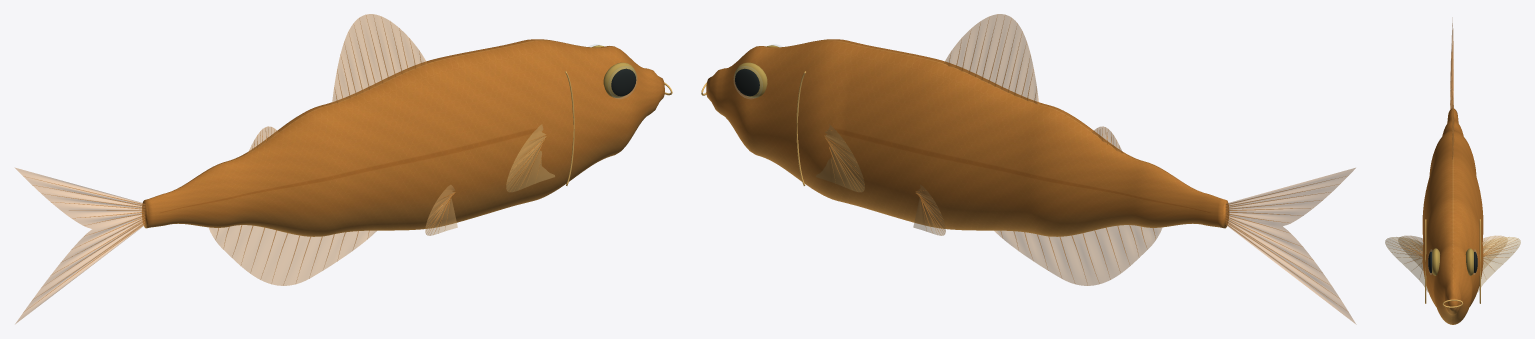
File: ember-desktop.glb
3 views of the same model, side by side, from view 1: azimuth 30°, elevation 25°; view 2: azimuth 150°, elevation 25°; view 3: azimuth 270°, elevation 25° (orthographic). The views are drawn at different scales.
Visible parts, largest first — view 1: skin, tail, anal, dorsal, dorsal-ray, pectoral-left, pelvic-left, eye-pupil--1; view 2: skin, tail, anal, dorsal, dorsal-ray, pectoral-left, pelvic-left, eye-pupil--1; view 3: skin, pectoral-left, pelvic-left, dorsal-ray, eye-iris--1, operculum, tail, eye-pupil--1, dorsal.
Part boxes in pixels (x1,y1,x2,y2): skin: [141, 39, 664, 236]; tail: [15, 168, 144, 323]; anal: [209, 225, 376, 285]; dorsal: [248, 14, 426, 153]; dorsal-ray: [23, 15, 546, 312]; pectoral-left: [506, 124, 554, 192]; pelvic-left: [425, 185, 457, 235]; eye-pupil--1: [611, 68, 636, 96]; skin: [706, 39, 1229, 236]; tail: [1226, 168, 1356, 324]; anal: [994, 225, 1162, 285]; dorsal: [944, 14, 1123, 153]; dorsal-ray: [824, 14, 1346, 310]; pectoral-left: [816, 124, 864, 192]; pelvic-left: [913, 184, 945, 235]; eye-pupil--1: [735, 68, 759, 96]; skin: [1422, 108, 1483, 324]; pectoral-left: [1385, 237, 1520, 291]; pelvic-left: [1398, 235, 1507, 269]; dorsal-ray: [1389, 35, 1517, 276]; eye-iris--1: [1432, 248, 1473, 275]; operculum: [1425, 219, 1480, 307]; tail: [1450, 17, 1453, 109]; eye-pupil--1: [1428, 252, 1477, 272]; dorsal: [1452, 93, 1453, 159].
Bounding box in the file's own units: 0.5972 × 0.2214 × 0.1473.
Materials: 11 (1 with a texture image).
